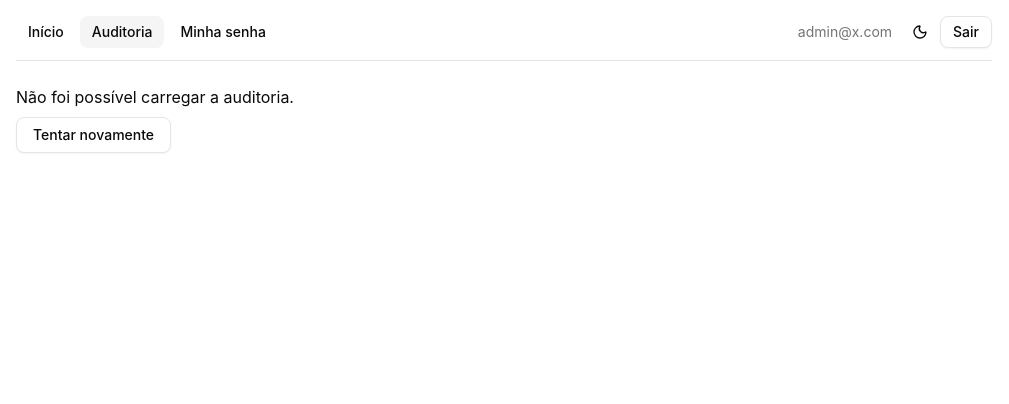
Test: AuditDetail on /audit/$id › shows error with retry
Expected: the text "Não foi possível carregar a auditoria." is shown, [16,87,294,107]
Click the button "Tentar novamente": (94, 135) [16,117,171,153]
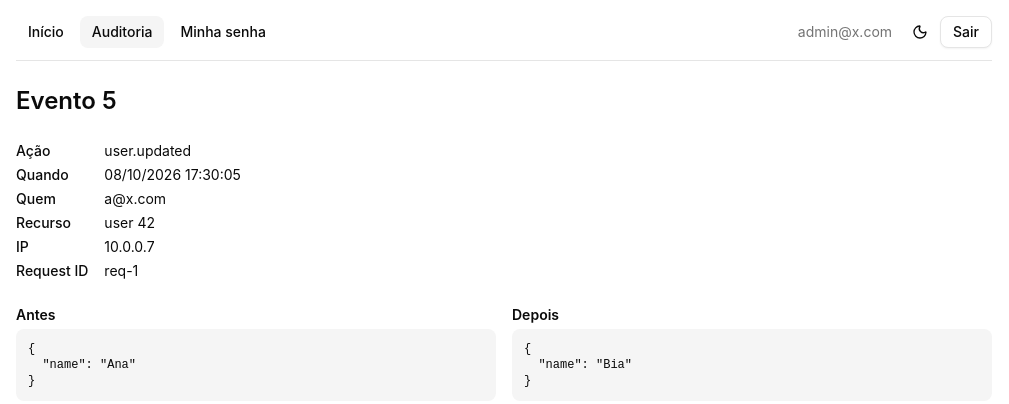
Now the heading "Antes" is shown, box [16,306,56,323]
